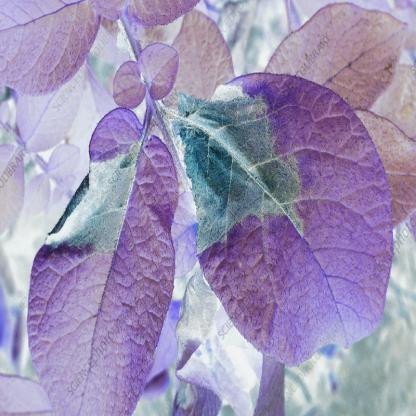Potato leaf early blight: (182, 59, 391, 372), (29, 106, 184, 415)
